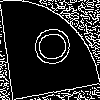O: (25, 24, 72, 70)
